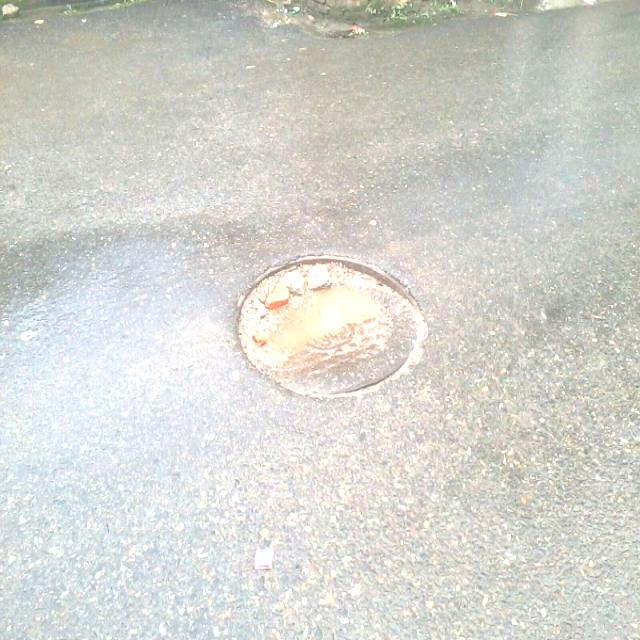Pothole: (228, 246, 431, 407)
